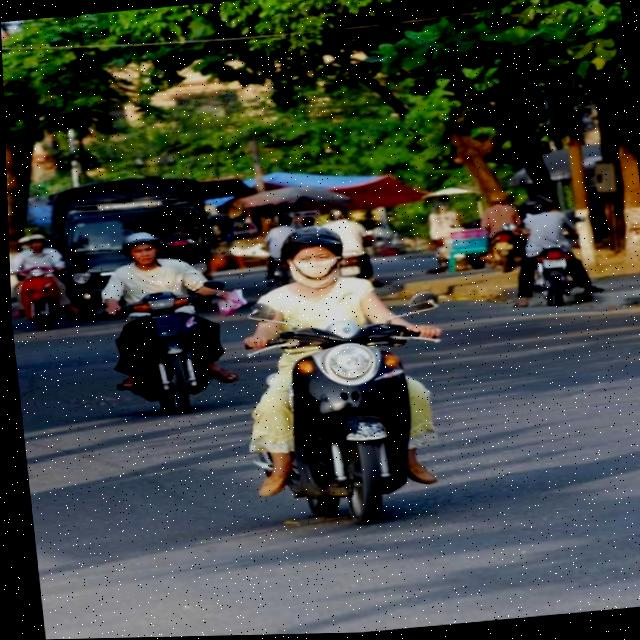motorcycle: (232, 272, 477, 539), (110, 285, 223, 422), (525, 238, 591, 308), (11, 262, 69, 330)
